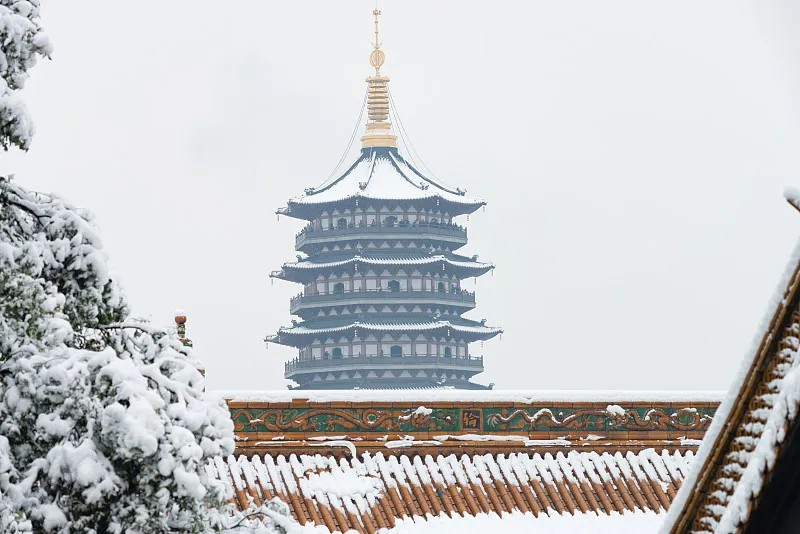Leifeng: (266, 3, 501, 391)
